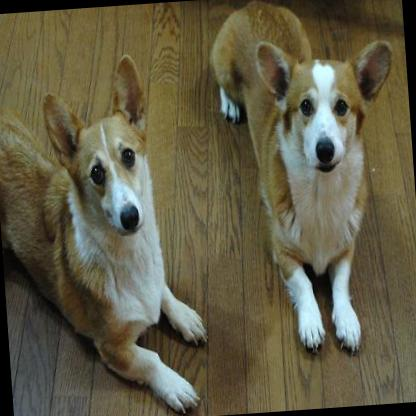Pembroke: (0, 48, 212, 416), (203, 0, 414, 363)
